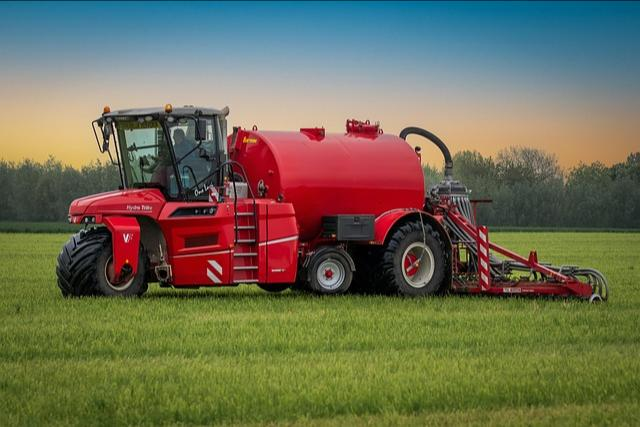Non_Gorille: (56, 60, 620, 321)
